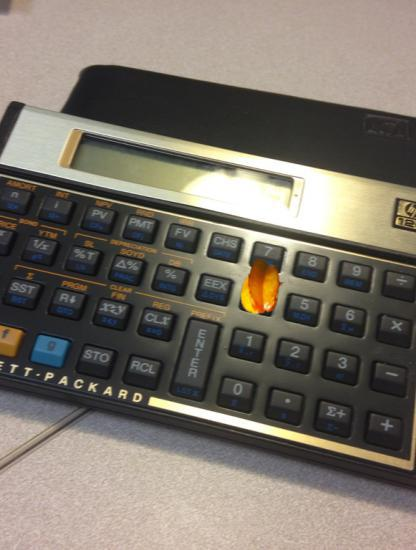Carambula: (234, 259, 291, 316)
